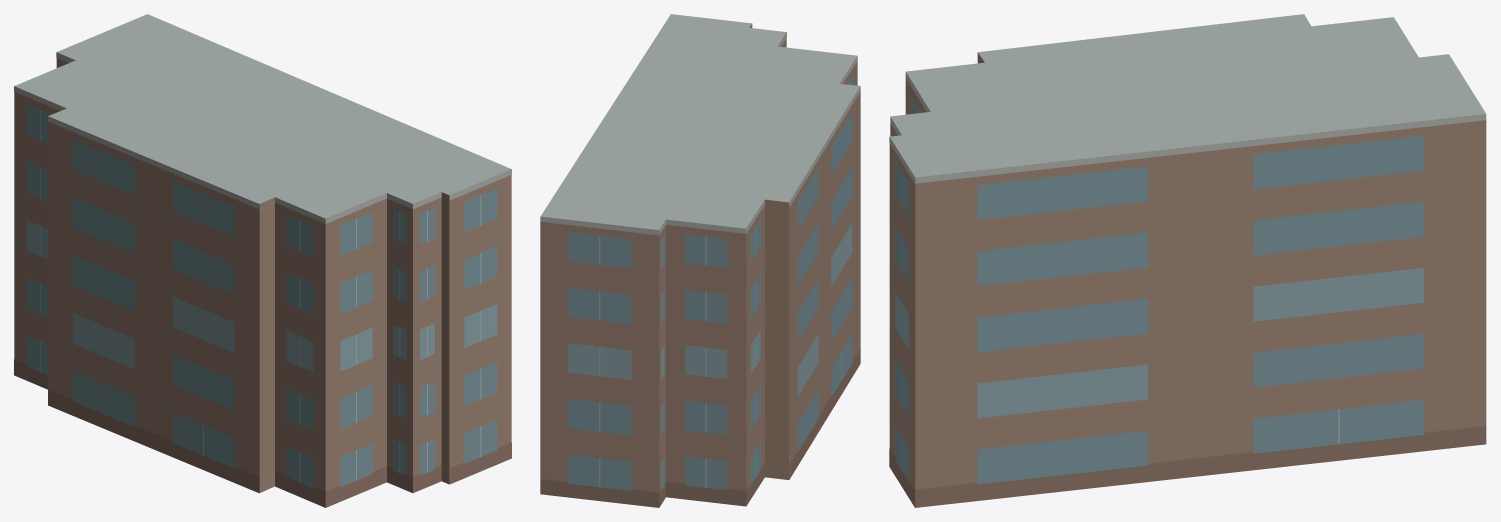
The model's file is survey-upis-32607309.glb.
3 views of the same model, side by side, from view 1: azimuth 30°, elevation 25°; view 2: azimuth 150°, elevation 25°; view 3: azimuth 270°, elevation 25° (orthographic). The views are drawn at different scales.
Visible parts, largest first — view 1: survey-upis-32607309.tmp; view 2: survey-upis-32607309.tmp; view 3: survey-upis-32607309.tmp.
Boxes of the visible parts, x1=… form: survey-upis-32607309.tmp: x1=14, y1=14, x2=511, y2=507; survey-upis-32607309.tmp: x1=540, y1=14, x2=860, y2=507; survey-upis-32607309.tmp: x1=889, y1=14, x2=1486, y2=507.
Size of the model in its own units: 13.81 by 13 by 21.3.
